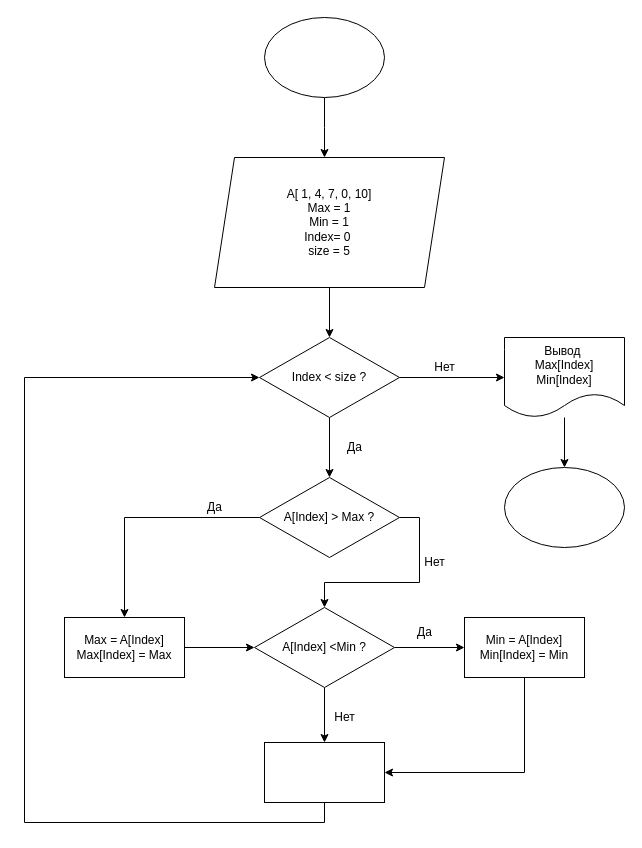
Image size: 642x848. Some labels were removed from this diagram. Each missing label, with the box of its shape:
Index = Index + 1: (264, 742, 384, 802)
Конец: (504, 466, 624, 548)
Начало: (264, 16, 384, 98)
